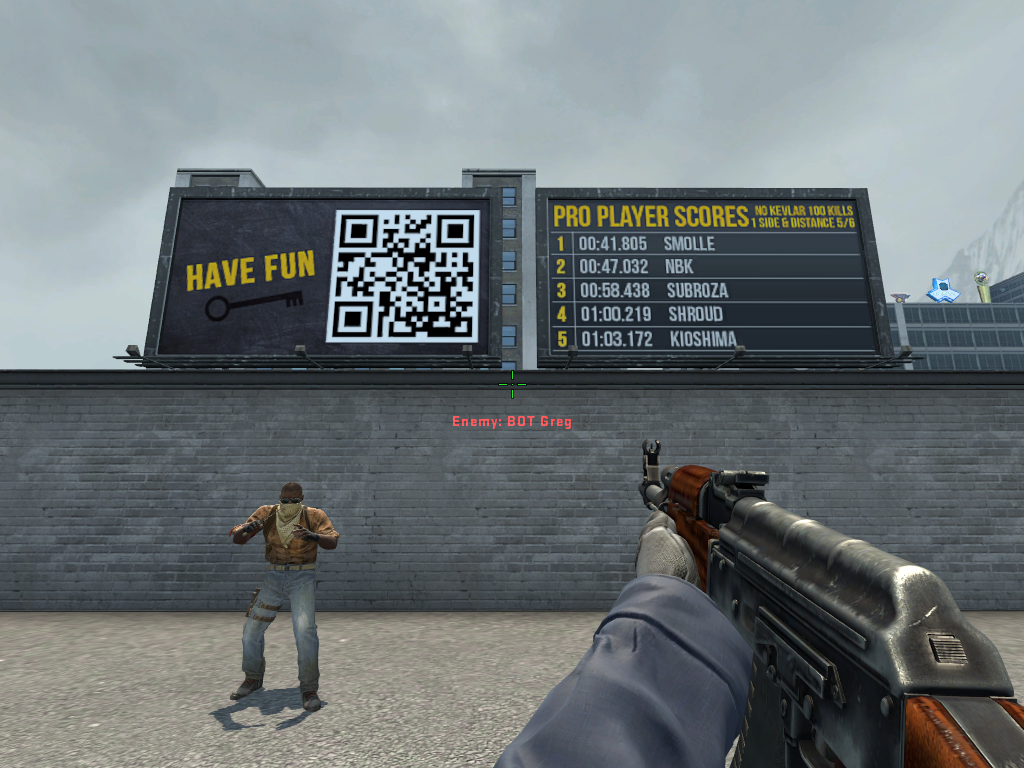tr head: (280, 482, 301, 520)
